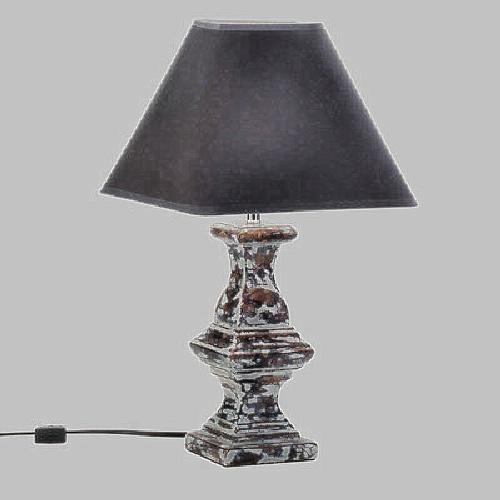lamp: (128, 14, 402, 472)
